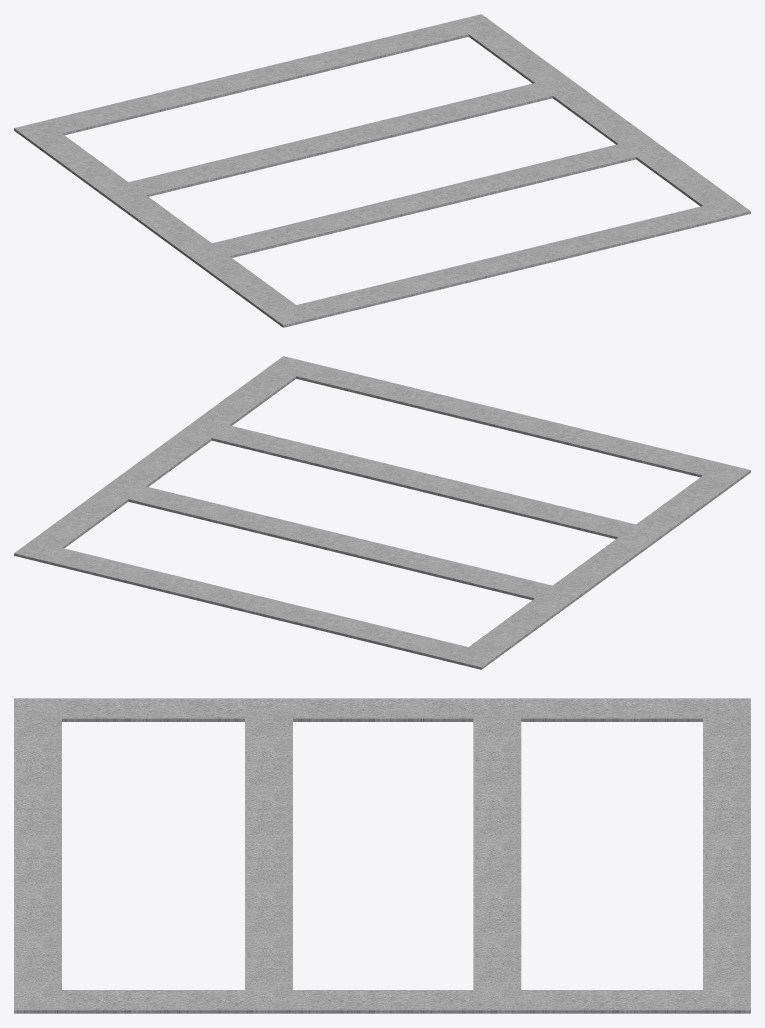
File: M_Houseorginizer_Road_.fbx
The picture shows the model from 3 angles, top to bottom: view 1: azimuth 30°, elevation 25°; view 2: azimuth 150°, elevation 25°; view 3: azimuth 270°, elevation 25°; orthographic projection. The views are drawn at different scales.
Visible parts, largest first — view 1: driveway; view 2: driveway; view 3: driveway.
Boxes of the visible parts, box(x1,y1,x2,y2) form: driveway: box(14, 14, 750, 327); driveway: box(14, 356, 750, 669); driveway: box(14, 698, 750, 1013).
Size of the model in its own units: 33457 by 172 by 33393.
